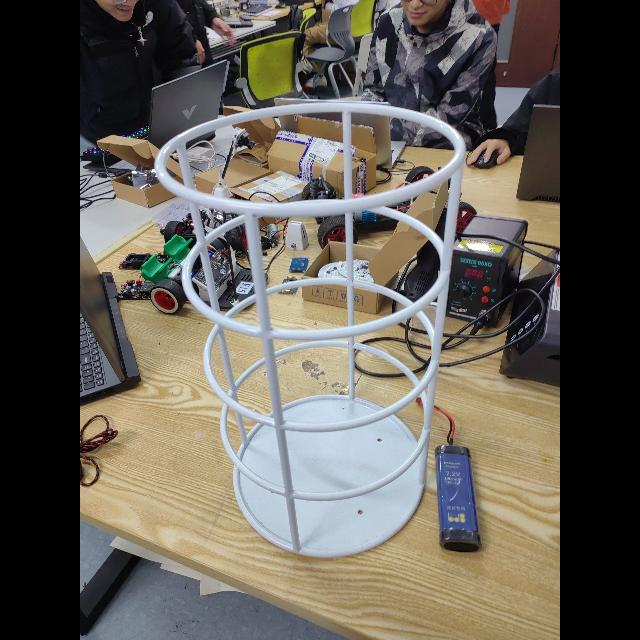S: (150, 97, 468, 558)
